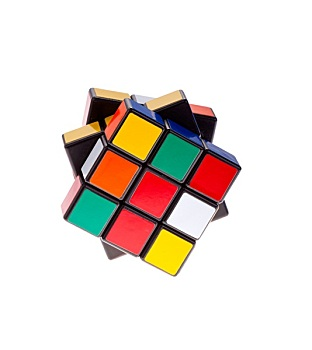cube: (55, 83, 242, 278)
